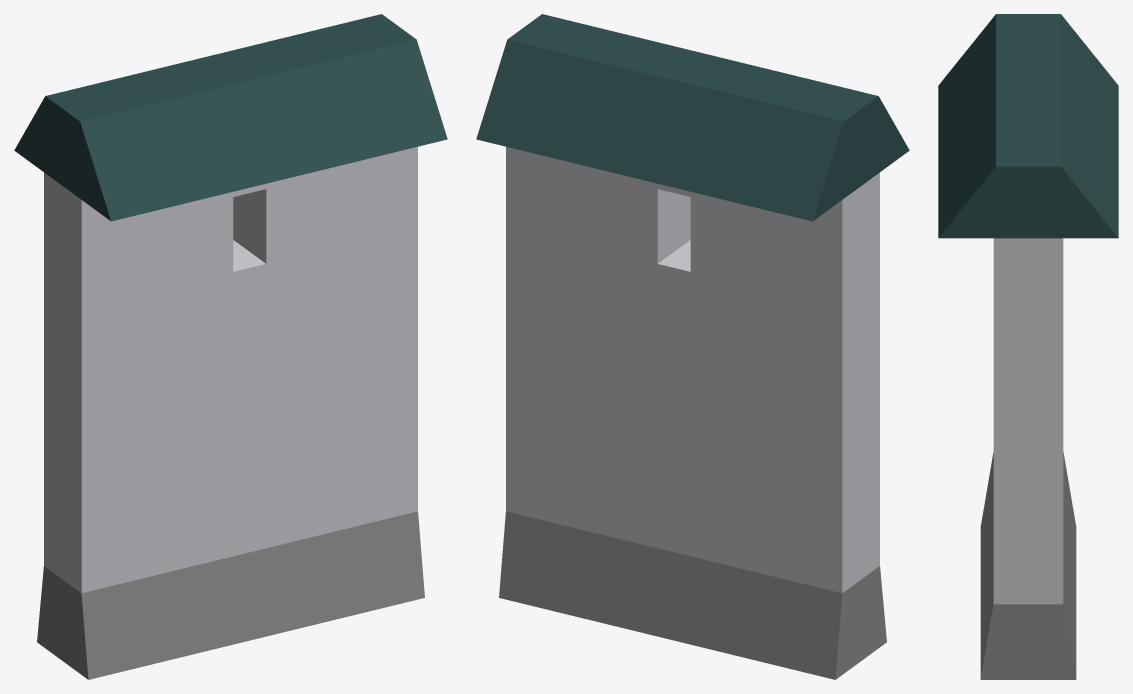
File: Asian_Prop_Building_Fence_Wall_Simple_Small_Embrasure_02.FBX
3 renders of one model, left to right at view 1: azimuth 30°, elevation 25°; view 2: azimuth 150°, elevation 25°; view 3: azimuth 270°, elevation 25°, orthographic. The views are drawn at different scales.
Visible parts, largest first — view 1: Asian_Prop_Building_Fence_Wall_Simple_Small_Embrasure_02; view 2: Asian_Prop_Building_Fence_Wall_Simple_Small_Embrasure_02; view 3: Asian_Prop_Building_Fence_Wall_Simple_Small_Embrasure_02.
Part boxes in pixels (<box>): Asian_Prop_Building_Fence_Wall_Simple_Small_Embrasure_02: <box>14,14,447,679</box>; Asian_Prop_Building_Fence_Wall_Simple_Small_Embrasure_02: <box>476,14,909,679</box>; Asian_Prop_Building_Fence_Wall_Simple_Small_Embrasure_02: <box>938,14,1118,679</box>.
Size of the model in its own units: 2584 by 4051 by 1290.
